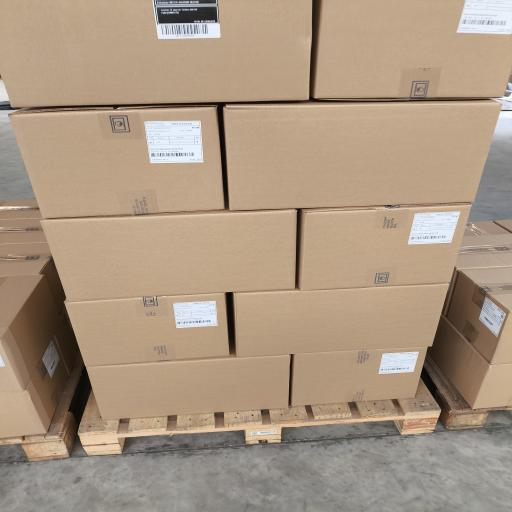pallet: (79, 381, 440, 455), (0, 354, 84, 461), (424, 354, 511, 429)
